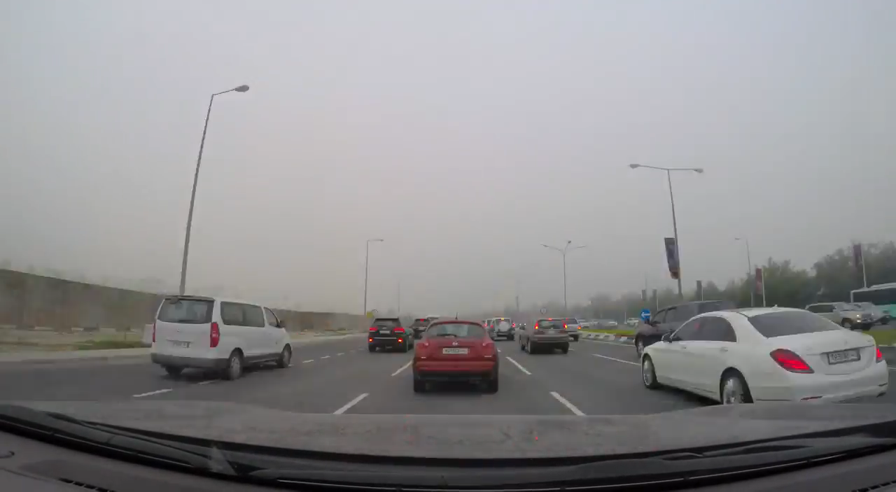car: (638, 302, 890, 413), (150, 292, 294, 382), (410, 315, 501, 395), (633, 298, 742, 360), (800, 300, 876, 333), (518, 316, 571, 357), (850, 281, 896, 325), (367, 315, 415, 354), (553, 316, 584, 344), (486, 316, 517, 342), (409, 317, 435, 340), (596, 317, 620, 332)
